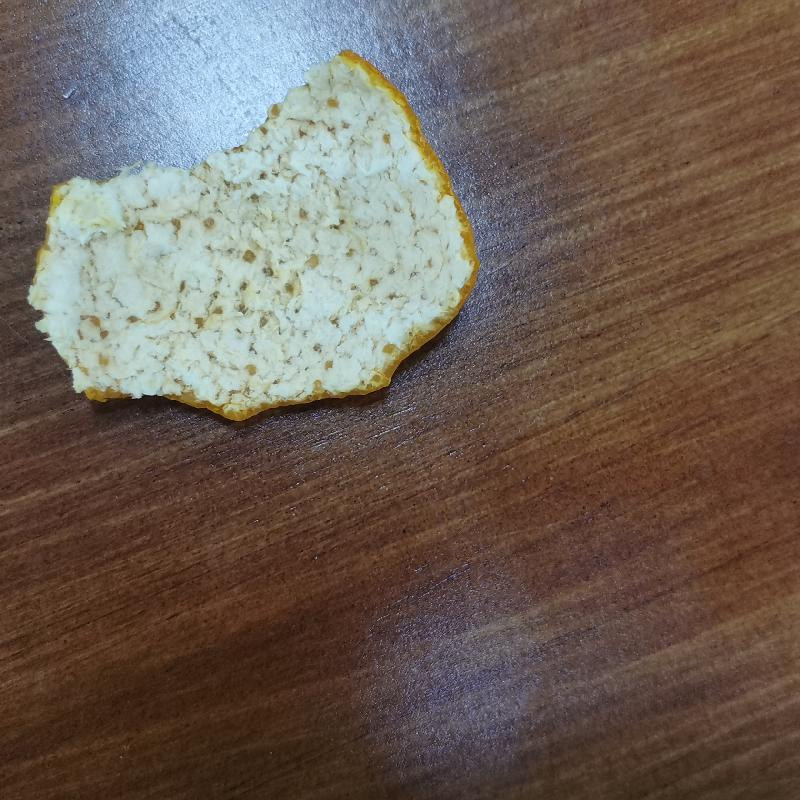orange: (22, 59, 480, 423)
